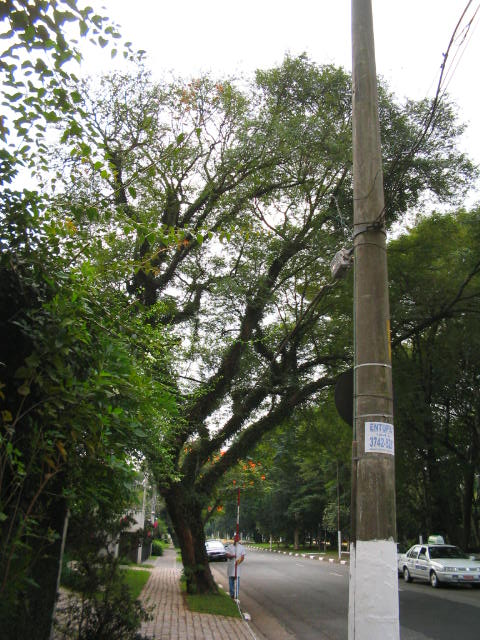crown: (66, 48, 474, 472)
stem: (156, 499, 229, 595)
stick: (224, 485, 249, 600)
tree: (65, 48, 480, 599)
